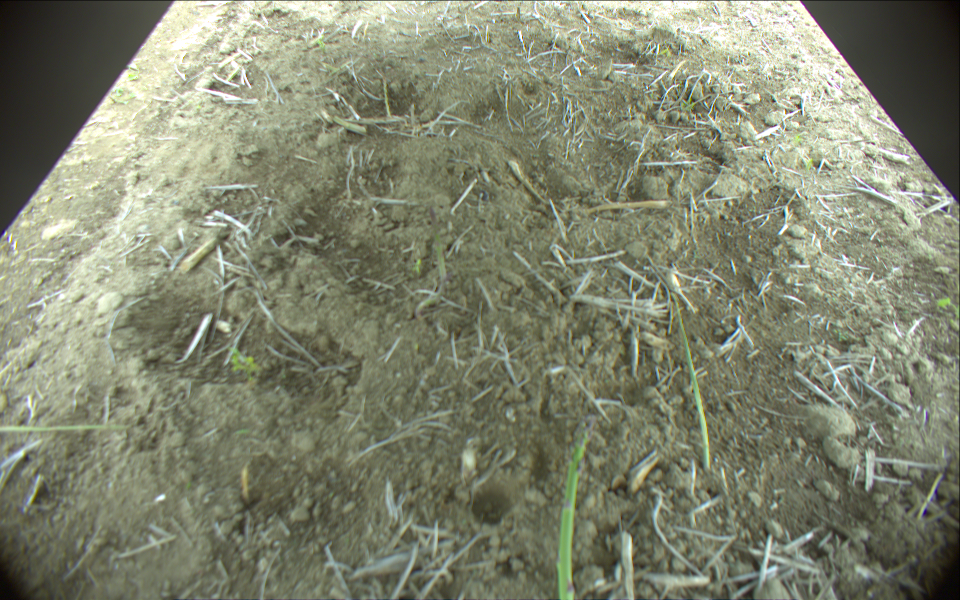aspa: (669, 287, 716, 471), (557, 419, 596, 600), (1, 423, 134, 435)
